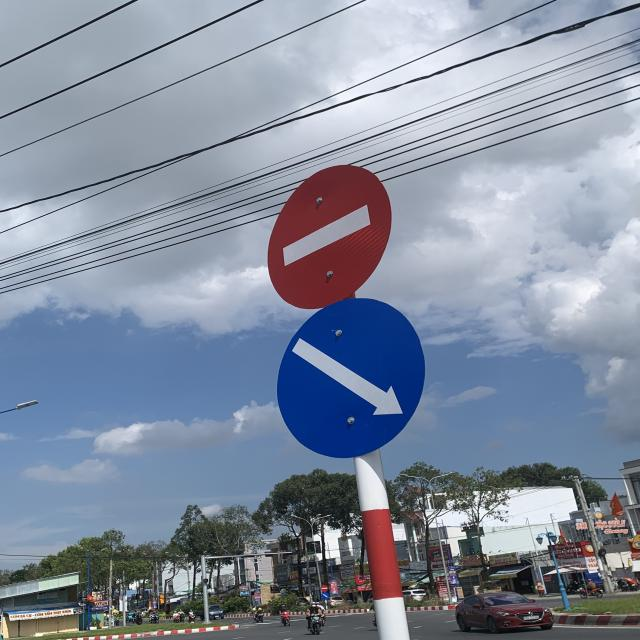Cam_Di_Nguoc_Chieu: (268, 164, 390, 308)
Chi_Huong_Di_Phai: (277, 300, 426, 458)
